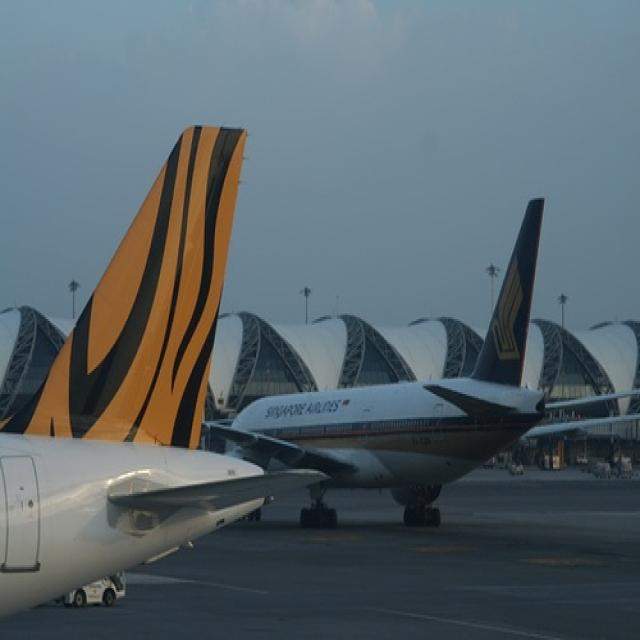aeroplane: (0, 110, 334, 638), (229, 196, 557, 538)
